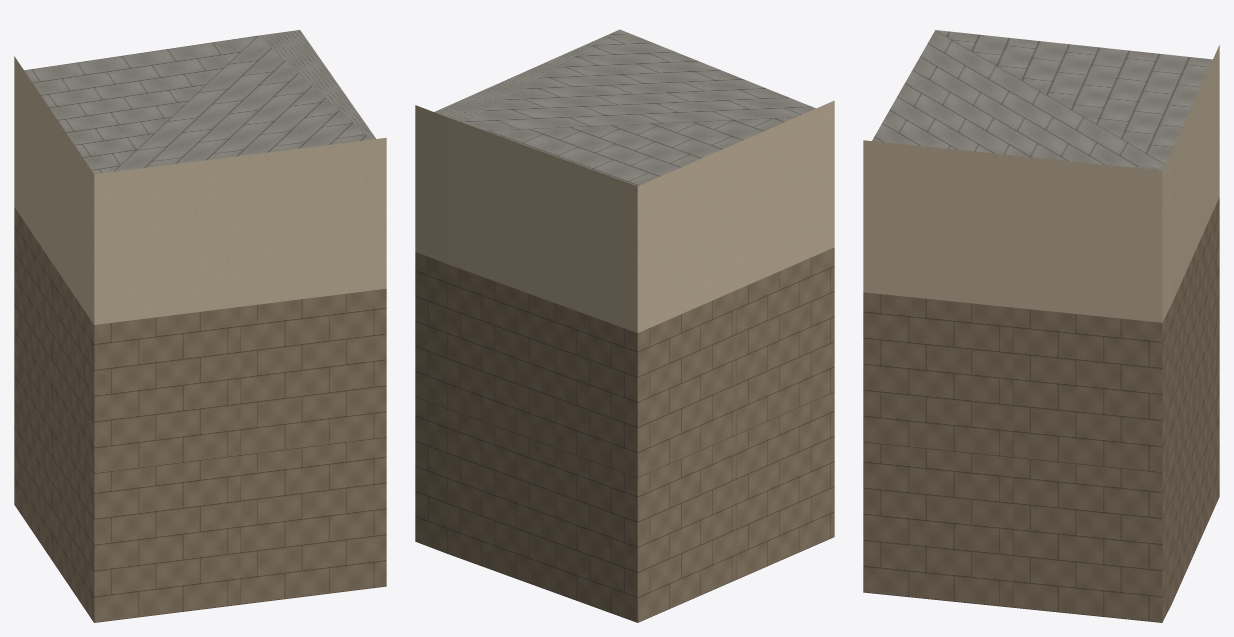
Rendered from bld_c10_16_450.gltf.
3 views of the same model, side by side, from view 1: azimuth 30°, elevation 25°; view 2: azimuth 150°, elevation 25°; view 3: azimuth 270°, elevation 25° (orthographic). The views are drawn at different scales.
Parts seen in each view (by area): view 1: bld_c10_16_450; view 2: bld_c10_16_450; view 3: bld_c10_16_450.
Boxes of the visible parts, x1,y1,x2,y2 form: bld_c10_16_450: [14, 30, 386, 622]; bld_c10_16_450: [415, 29, 834, 622]; bld_c10_16_450: [863, 30, 1219, 622].
Bounding box in the file's own units: 5.04 × 6.78 × 4.84.
4 materials, 4 textured.
